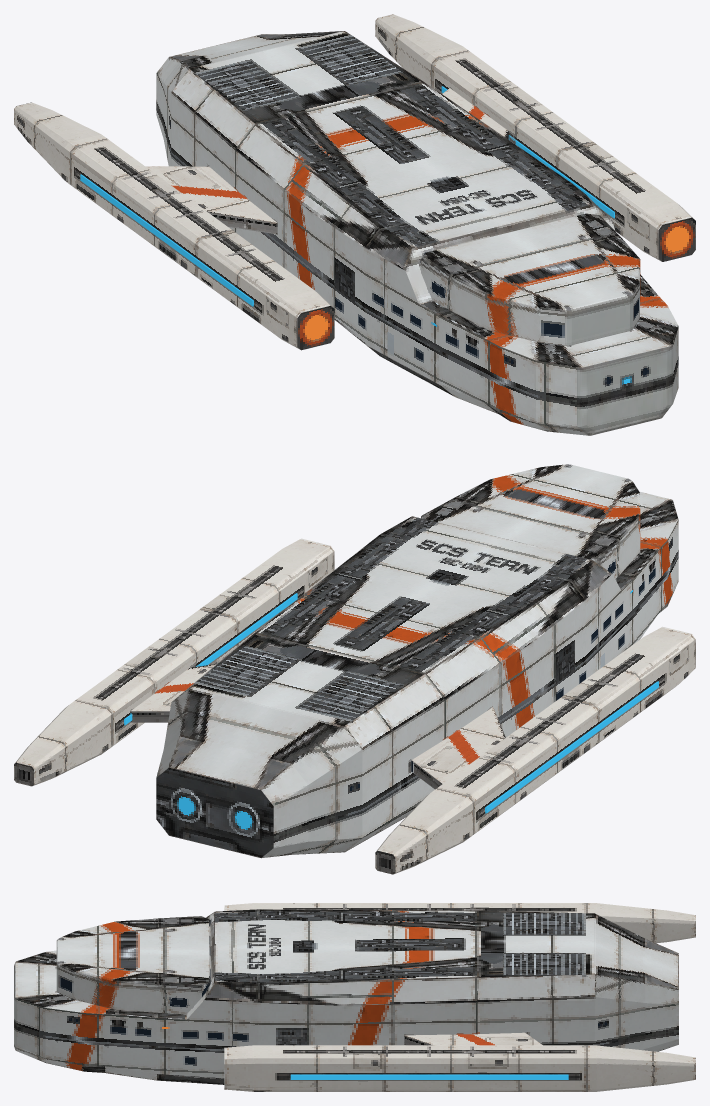
File: tern_lod2.glb
3 renders of one model, top to bottom at view 1: azimuth 30°, elevation 25°; view 2: azimuth 150°, elevation 25°; view 3: azimuth 270°, elevation 25°, orthographic. The views are drawn at different scales.
Parts seen in each view (by area): view 1: tern_lod2; view 2: tern_lod2; view 3: tern_lod2.
Part boxes in pixels (left/top/right/bottom): tern_lod2: left=14, top=14, right=695, bottom=435; tern_lod2: left=14, top=464, right=695, bottom=874; tern_lod2: left=14, top=903, right=695, bottom=1091.
Bounding box in the file's own units: 45 × 14 × 81.
Materials: 1 (1 with a texture image).
